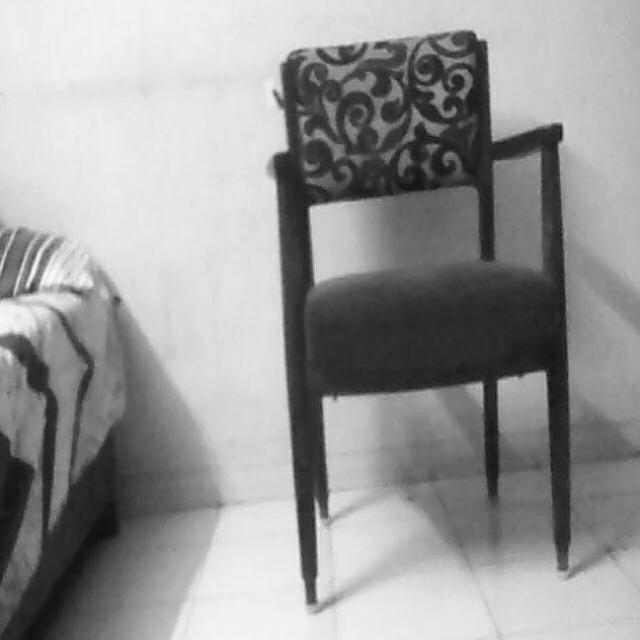chair ahead at: (264, 28, 580, 606)
